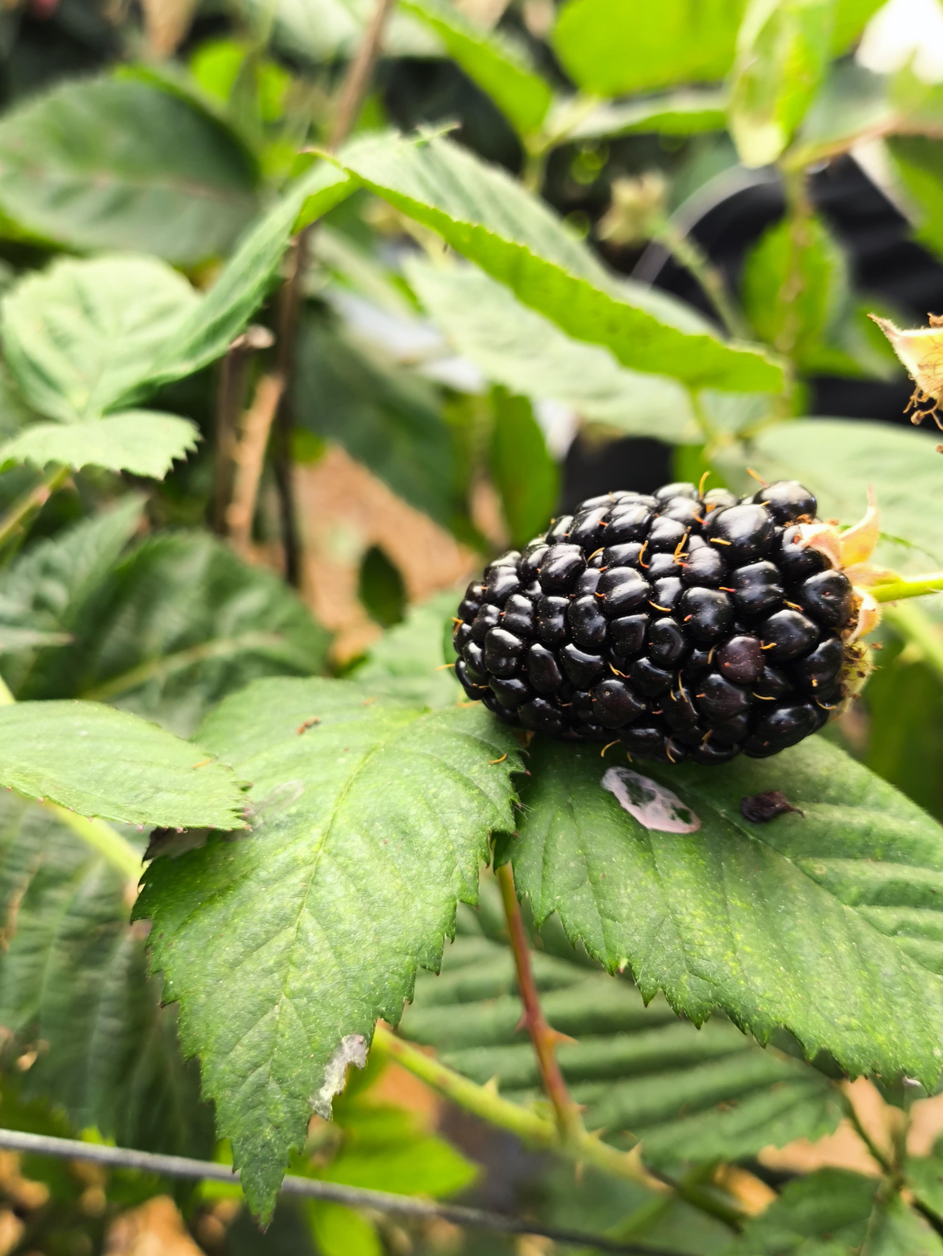maduro: (462, 482, 850, 755)
